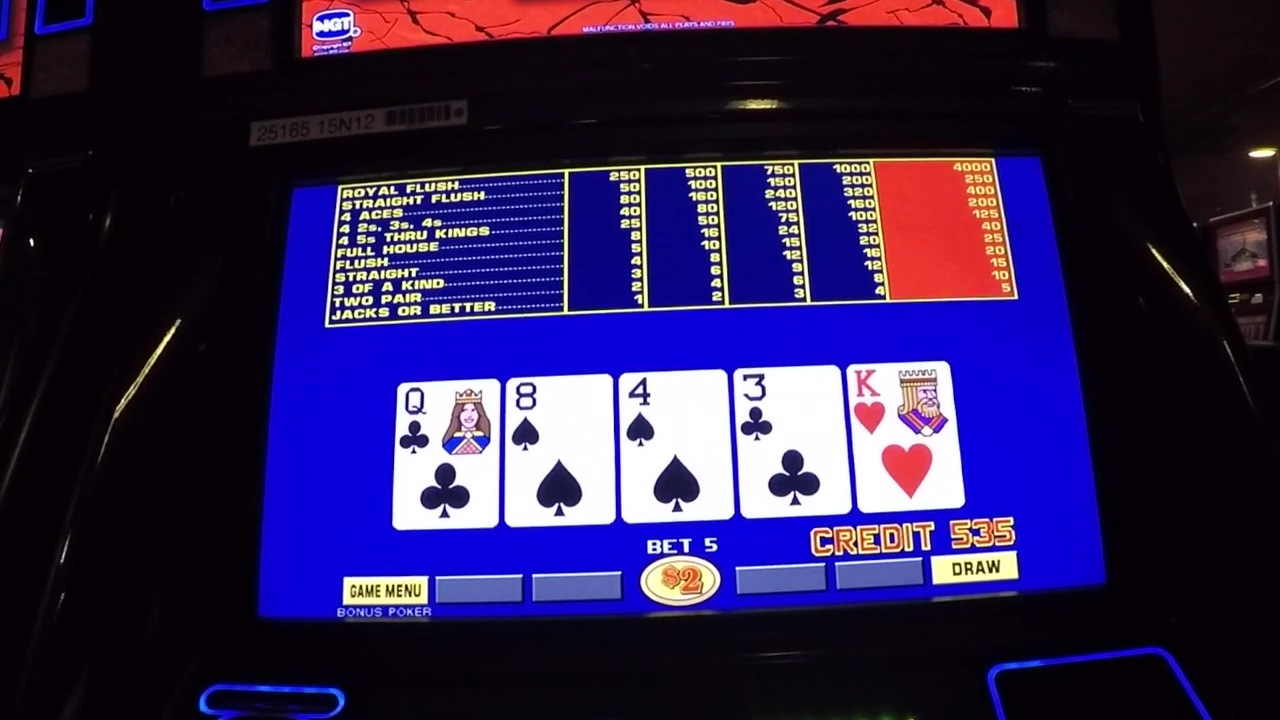C3: (738, 371, 847, 448)
CQ: (396, 381, 500, 460)
HK: (855, 366, 959, 443)
S4: (621, 373, 728, 453)
S8: (506, 375, 614, 459)
